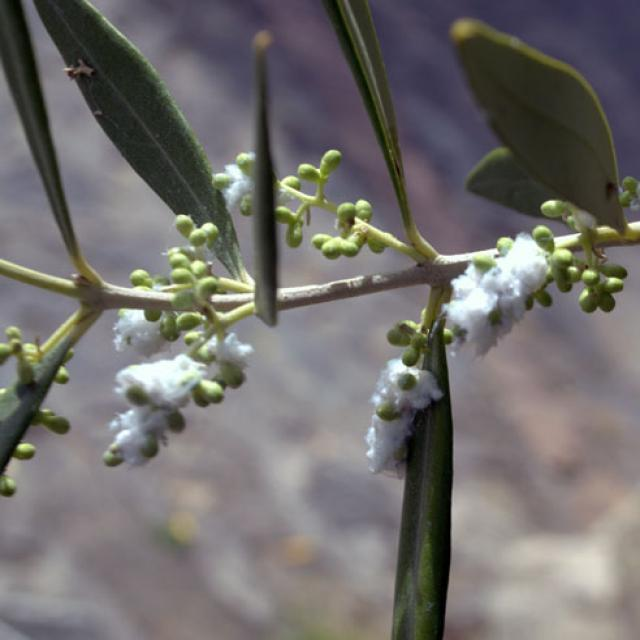Psyllid: (104, 308, 252, 466), (441, 233, 548, 355), (364, 353, 442, 478), (212, 152, 254, 215), (116, 311, 165, 356)
